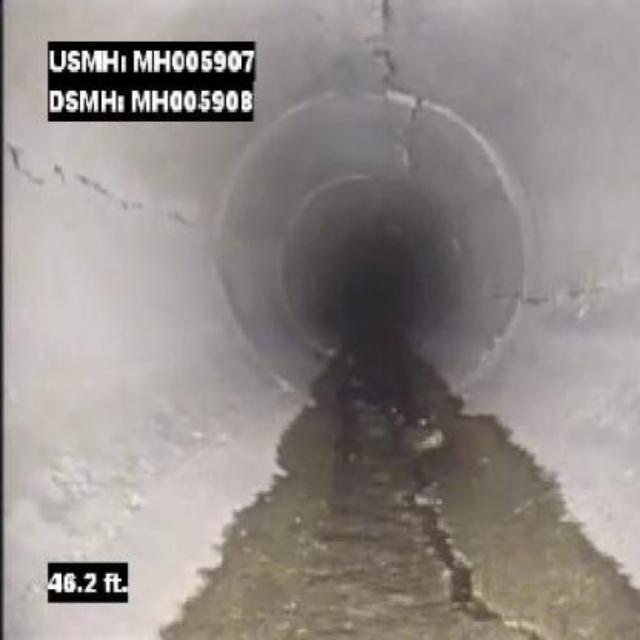Buckling: (414, 494, 506, 626)
Crack: (5, 134, 188, 223), (506, 272, 638, 314), (360, 2, 411, 92)
